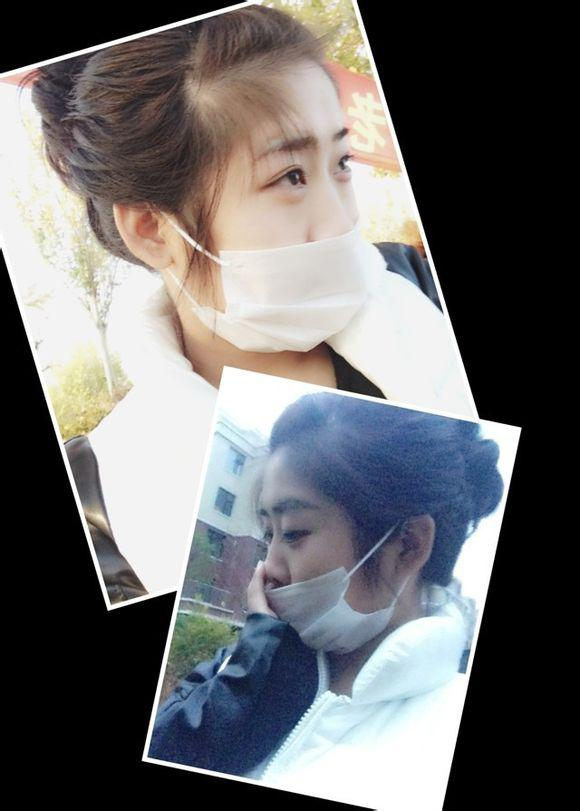WRONG: (167, 137, 377, 347), (256, 505, 401, 653)
